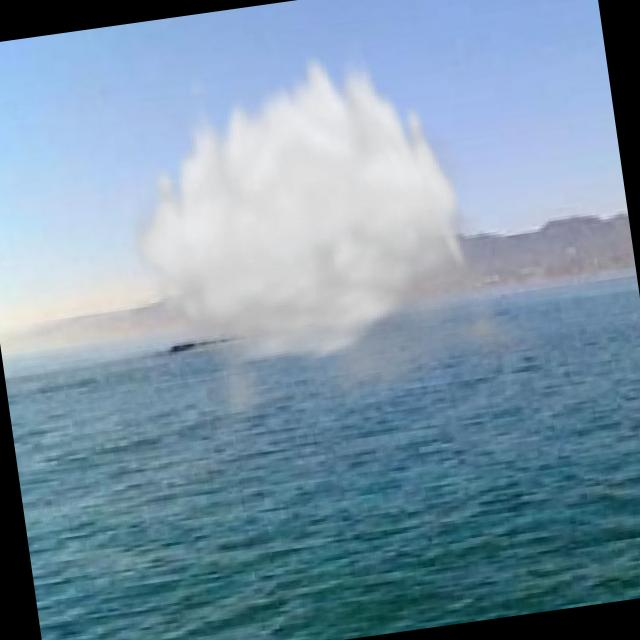Smoke: (104, 20, 563, 458)
